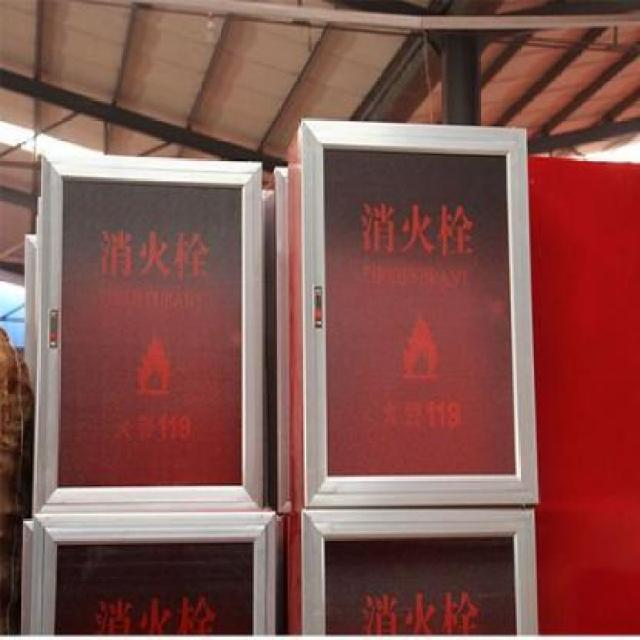firehydrant: (284, 117, 542, 509), (32, 140, 268, 511), (285, 506, 542, 639), (25, 509, 278, 640)
